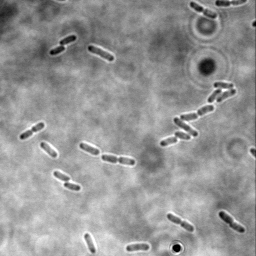Dividing: (217, 209, 246, 234), (166, 211, 196, 233), (180, 104, 216, 122), (187, 0, 219, 20), (18, 119, 47, 141), (100, 153, 136, 167), (214, 0, 249, 9), (58, 33, 79, 47), (48, 45, 66, 57)
Rod: (86, 42, 115, 63), (172, 116, 199, 138), (38, 139, 60, 160), (77, 140, 102, 157), (216, 87, 238, 105), (83, 231, 98, 255), (52, 169, 73, 183), (125, 242, 151, 253), (206, 88, 223, 104), (62, 180, 82, 193), (159, 135, 179, 148), (212, 80, 236, 90), (173, 131, 193, 141)
